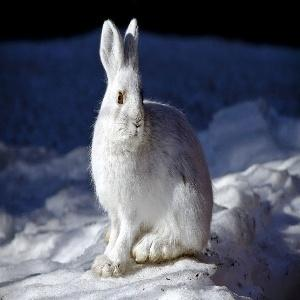rabbit: (91, 19, 212, 276)
